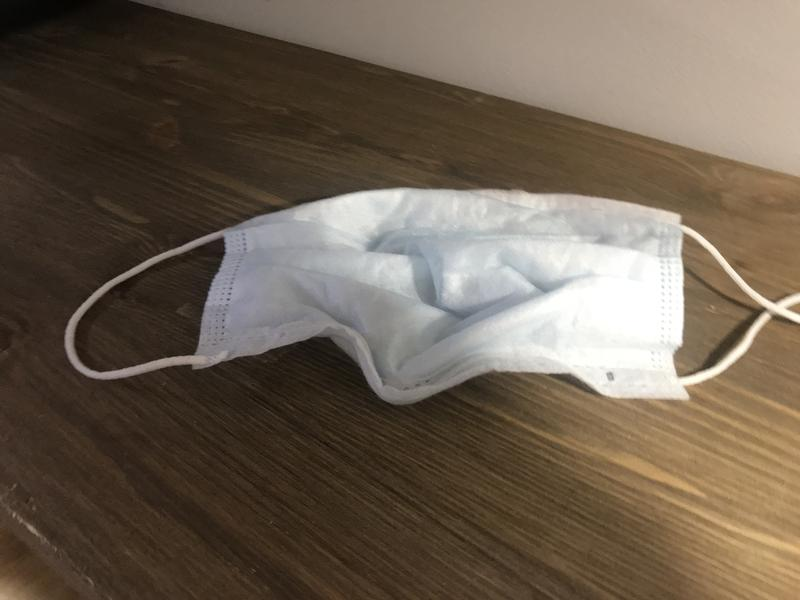medical_mask: (65, 186, 800, 407)
